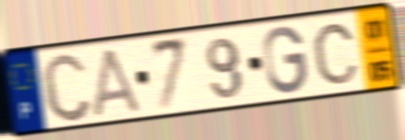7: (150, 33, 189, 115)
9: (204, 35, 244, 100)
A: (91, 46, 144, 120)
C: (39, 50, 94, 125), (310, 21, 361, 87)
G: (261, 24, 310, 97)
